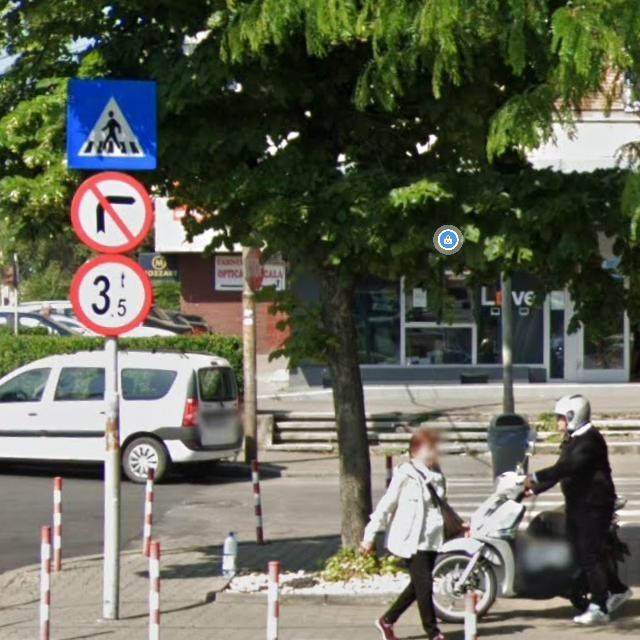info_crosswalk: (67, 79, 159, 170)
